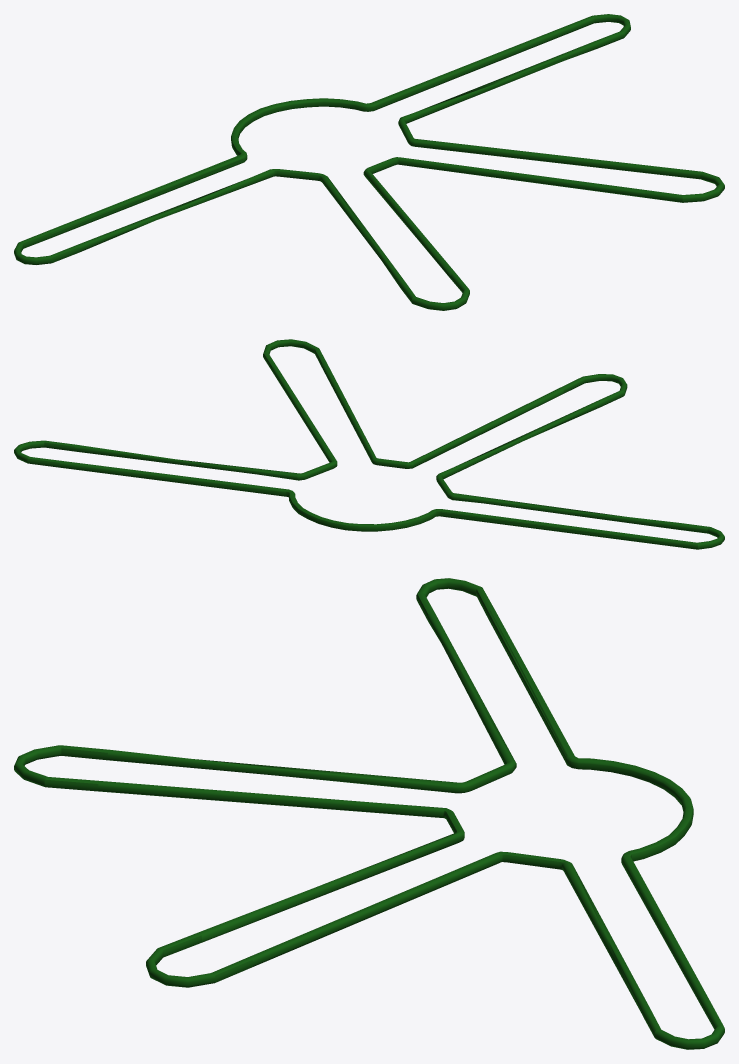
Rendered from Trava.fbx.
3 renders of one model, top to bottom at view 1: azimuth 30°, elevation 25°; view 2: azimuth 150°, elevation 25°; view 3: azimuth 270°, elevation 25°, orthographic. The views are drawn at different scales.
Parts seen in each view (by area): view 1: Куб.052; view 2: Куб.052; view 3: Куб.052.
Boxes of the visible parts, left/top/right/bottom form: Куб.052: left=14, top=14, right=724, bottom=310; Куб.052: left=14, top=339, right=724, bottom=549; Куб.052: left=14, top=578, right=724, bottom=1049.
Bounding box in the file's own units: 8967 × 85.99 × 5796.
